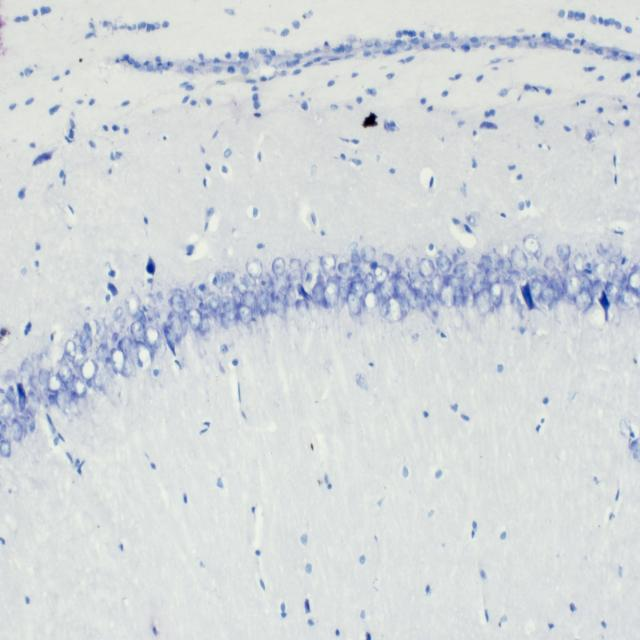neuron: (387, 294, 410, 322), (564, 274, 582, 303), (474, 287, 492, 315), (324, 279, 340, 310), (54, 387, 72, 414), (574, 289, 594, 313), (79, 358, 97, 384), (125, 291, 142, 318), (110, 347, 126, 375), (258, 271, 274, 299), (438, 282, 455, 308), (16, 368, 31, 397), (500, 280, 516, 307), (510, 247, 528, 271), (523, 233, 541, 257), (163, 324, 178, 352), (470, 271, 486, 297), (605, 280, 621, 306), (143, 324, 160, 348), (245, 256, 262, 280), (363, 289, 379, 314), (346, 292, 362, 316), (489, 281, 503, 308), (550, 272, 564, 299), (424, 293, 439, 318), (170, 292, 187, 314), (418, 256, 435, 278), (72, 343, 86, 369), (169, 318, 183, 344), (273, 295, 287, 321), (380, 276, 394, 302), (461, 267, 475, 293), (529, 277, 543, 303), (188, 307, 203, 331), (222, 300, 240, 320), (349, 279, 367, 299), (595, 240, 613, 260), (373, 264, 390, 285), (238, 303, 254, 325), (242, 290, 258, 312), (287, 268, 303, 290), (454, 284, 469, 307), (320, 254, 337, 274), (128, 338, 141, 364), (130, 319, 146, 340), (10, 418, 23, 443), (26, 390, 38, 417), (192, 282, 210, 300), (0, 423, 16, 443), (222, 310, 238, 330), (360, 244, 376, 264), (294, 297, 309, 318), (395, 275, 408, 299), (406, 284, 418, 310), (429, 273, 442, 297), (74, 378, 88, 400), (258, 290, 269, 318), (46, 374, 62, 393), (284, 286, 297, 309), (0, 398, 12, 422), (64, 338, 76, 362), (312, 280, 324, 304), (436, 255, 452, 273), (154, 336, 167, 358), (78, 332, 93, 351), (416, 280, 431, 299), (58, 362, 72, 382), (96, 343, 110, 363), (182, 294, 196, 314), (272, 257, 286, 277), (541, 287, 555, 307), (556, 242, 570, 262), (612, 268, 626, 288), (230, 284, 242, 307), (276, 285, 288, 308), (20, 357, 35, 375), (3, 368, 17, 387), (118, 335, 132, 354), (213, 270, 227, 289), (121, 355, 132, 379), (200, 313, 212, 335), (337, 278, 349, 300), (64, 374, 77, 394), (207, 292, 220, 312), (447, 273, 462, 290), (573, 253, 585, 274), (593, 260, 607, 278), (579, 273, 592, 292), (627, 271, 640, 290), (406, 254, 420, 271), (497, 257, 512, 272), (304, 260, 320, 274), (338, 261, 352, 277), (38, 368, 50, 386), (453, 261, 468, 275), (350, 248, 361, 267), (288, 258, 304, 271), (544, 255, 556, 272), (6, 384, 16, 404), (380, 253, 394, 267), (535, 268, 548, 282), (0, 439, 10, 457), (364, 272, 374, 290), (380, 300, 390, 318), (115, 306, 123, 323), (348, 241, 359, 251), (456, 246, 466, 255)
